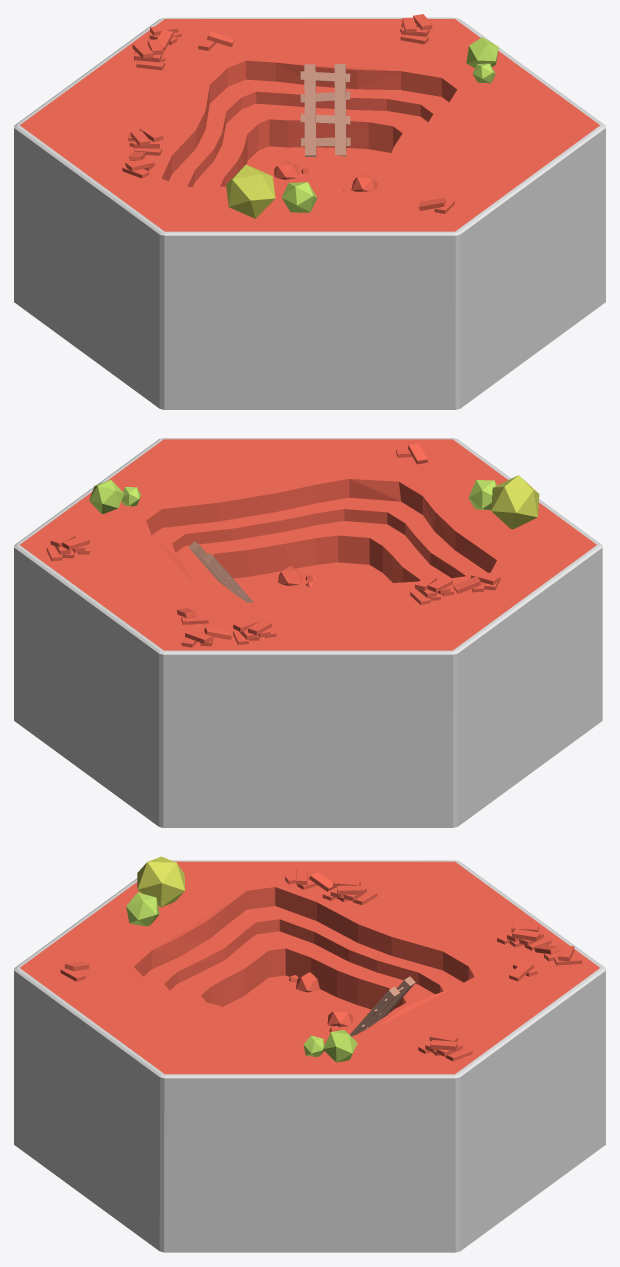
File: basetile_claypit_final.fbx
The picture shows the model from 3 angles, top to bottom: view 1: azimuth 30°, elevation 25°; view 2: azimuth 150°, elevation 25°; view 3: azimuth 270°, elevation 25°; orthographic projection.
Parts seen in each view (by area): view 1: BasePlate, Cube.008, Icosphere.010, Icosphere.009, Cube.002, Cube.003, Cube.006, Icosphere.007, Cube.004, Cube.001; view 2: BasePlate, Icosphere.010, Cube.008, Cube.006, Cube.003, Cube.002, Icosphere.007, Cube.004, Cube.001, Icosphere.009; view 3: BasePlate, Icosphere.010, Cube.008, Cube.003, Cube.006, Cube.002, Icosphere.009, Icosphere.007, Cube.001, Cube.004.
Boxes of the visible parts, x1,y1,x2,y2 form: BasePlate: (14, 17, 605, 409); Cube.008: (300, 64, 350, 156); Icosphere.010: (226, 164, 275, 218); Icosphere.009: (281, 182, 317, 212); Cube.002: (132, 39, 165, 70); Cube.003: (128, 126, 163, 155); Cube.006: (400, 14, 432, 44); Icosphere.007: (466, 37, 498, 67); Cube.004: (122, 151, 154, 178); Cube.001: (149, 23, 181, 50); BasePlate: (14, 438, 602, 827); Icosphere.010: (491, 475, 539, 529); Cube.008: (188, 541, 253, 602); Cube.006: (46, 532, 89, 561); Cube.003: (410, 575, 454, 604); Cube.002: (233, 617, 276, 644); Icosphere.007: (89, 480, 123, 513); Cube.004: (453, 571, 500, 593); Cube.001: (181, 627, 231, 647); Icosphere.009: (468, 480, 496, 510); BasePlate: (14, 860, 605, 1252); Icosphere.010: (137, 856, 184, 907); Cube.008: (350, 976, 415, 1036); Cube.003: (322, 878, 377, 904); Cube.006: (418, 1032, 472, 1061); Cube.002: (497, 923, 551, 950); Icosphere.009: (126, 892, 159, 926); Icosphere.007: (323, 1030, 357, 1062); Cube.001: (534, 944, 581, 965); Cube.004: (285, 869, 334, 891).
Bounding box in the file's own units: 177 × 82.92 × 204.
